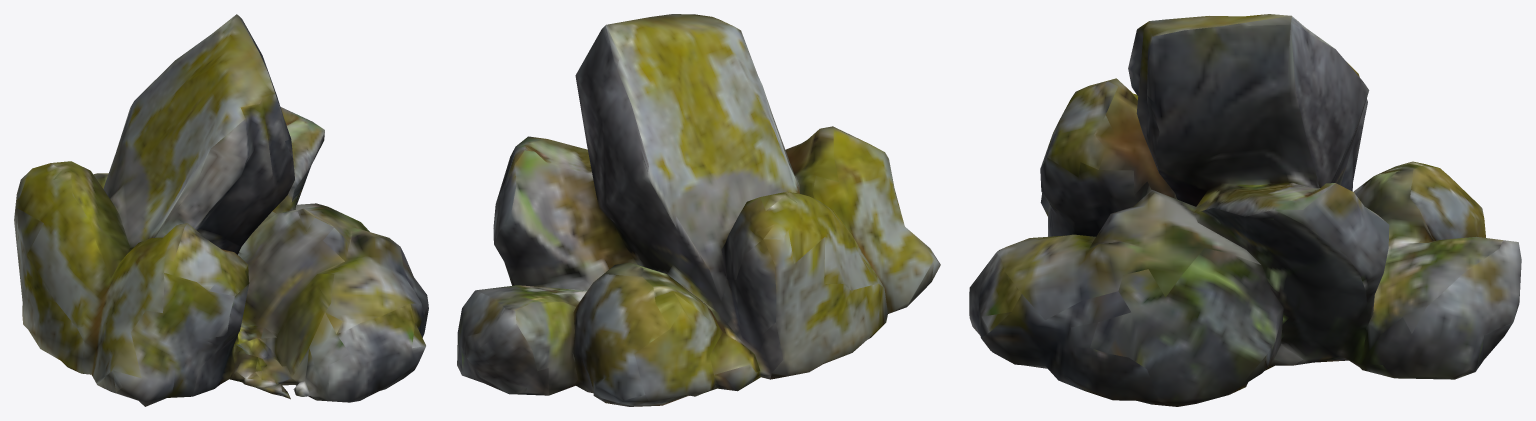
File: F3D_09_LargeRock.fbx
3 views of the same model, side by side, from view 1: azimuth 30°, elevation 25°; view 2: azimuth 150°, elevation 25°; view 3: azimuth 270°, elevation 25° (orthographic). The views are drawn at different scales.
Visible parts, largest first — view 1: F3D_09_LargeRock; view 2: F3D_09_LargeRock; view 3: F3D_09_LargeRock.
Boxes of the visible parts, left/top/right/bottom form: F3D_09_LargeRock: left=14, top=14, right=428, bottom=406; F3D_09_LargeRock: left=457, top=14, right=940, bottom=406; F3D_09_LargeRock: left=969, top=14, right=1521, bottom=406.
Bounding box in the file's own units: 1.17 × 1 × 1.49.
